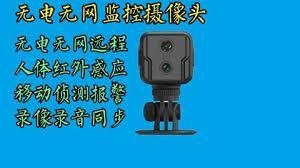maru: (139, 32, 195, 101)
